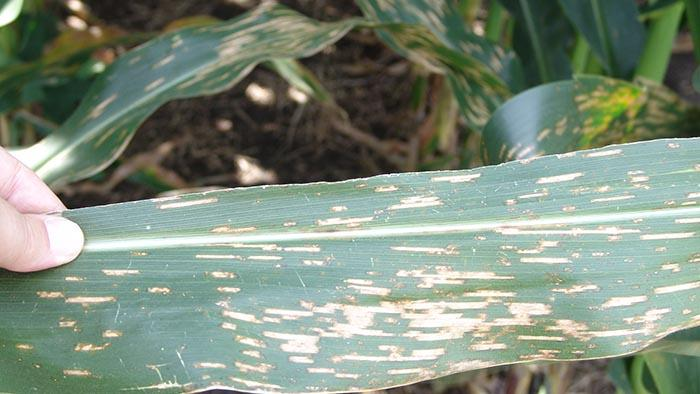Corn Gray leaf spot: (92, 127, 700, 392)
